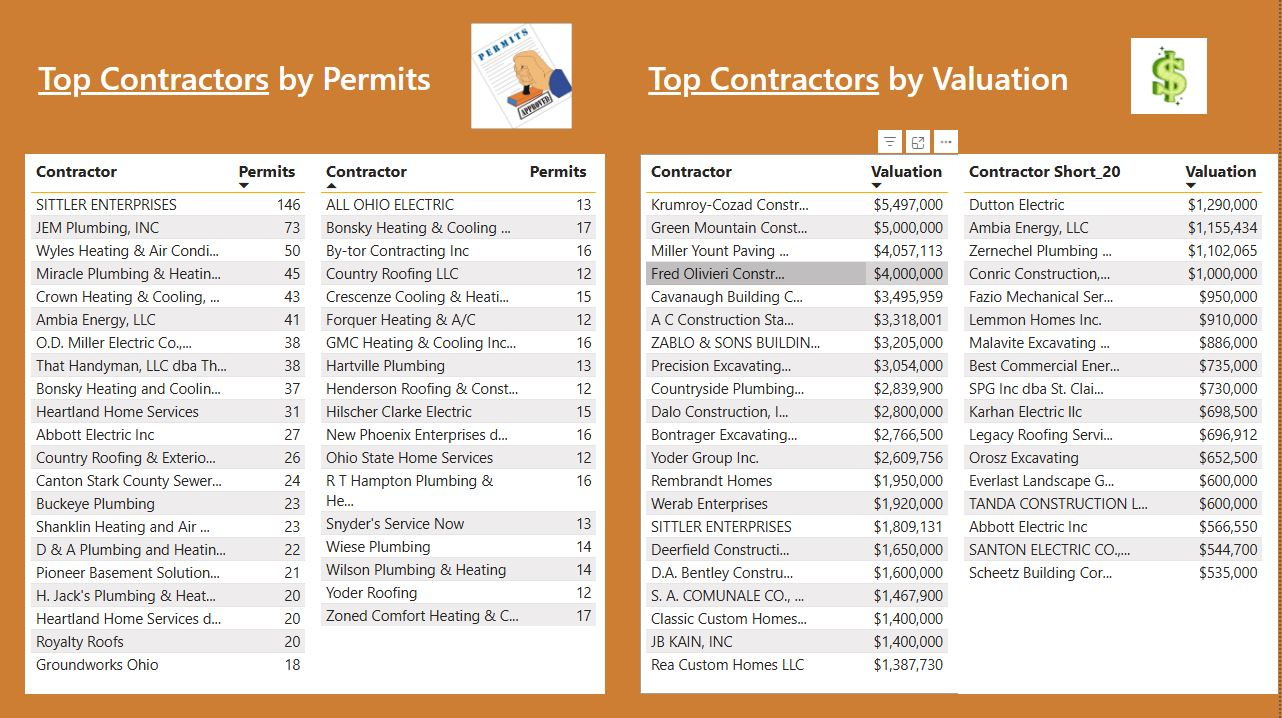

What the dashboard file says about the page in this screenshot:
{"tool":"powerbi","page":{"name":"Contractors","canvas":[1280,720],"ordinal":1},"visuals":[{"type":"tableEx","fields":{"Values":["permits_gold.Contractor Short","permits_gold.Total Permits"]},"box":[26.3,155.2,289.4,539.4],"z":0},{"type":"tableEx","fields":{"Values":["permits_gold.Contractor Short","permits_gold.Total Permits"]},"box":[315.7,155.2,290.7,539.4],"z":1000},{"type":"textbox","box":[26.7,0,417.2,155.2],"z":2000},{"type":"textbox","box":[640.5,0,437.1,155.2],"z":3000},{"type":"tableEx","fields":{"Values":["permits_gold.Contractor Short_20","permits_gold.Total Valuation"]},"box":[640.7,155.2,319.7,539.4],"z":4000},{"type":"tableEx","fields":{"Values":["permits_gold.Contractor Short_20","permits_gold.Total Valuation"]},"box":[959,155.2,319.7,539.4],"z":5000},{"type":"image","box":[461.2,19,122.4,116.4],"z":6000},{"type":"image","box":[1108.6,34.5,122.4,85.3],"z":7000}]}

Visuals, with their boxes in screenshot pixels (x1, y1, x2, y2), scaled from the page's 1280x720 canvas onto the 1282x718 screenshot:
tableEx - permits_gold.Contractor Short x permits_gold.Total Permits: pyautogui.locateOnScreen(26, 155, 316, 693)
tableEx - permits_gold.Contractor Short x permits_gold.Total Permits: pyautogui.locateOnScreen(316, 155, 607, 693)
textbox: pyautogui.locateOnScreen(27, 0, 445, 155)
textbox: pyautogui.locateOnScreen(642, 0, 1079, 155)
tableEx - permits_gold.Contractor Short_20 x permits_gold.Total Valuation: pyautogui.locateOnScreen(642, 155, 962, 693)
tableEx - permits_gold.Contractor Short_20 x permits_gold.Total Valuation: pyautogui.locateOnScreen(960, 155, 1281, 693)
image: pyautogui.locateOnScreen(462, 19, 585, 135)
image: pyautogui.locateOnScreen(1110, 34, 1233, 119)
